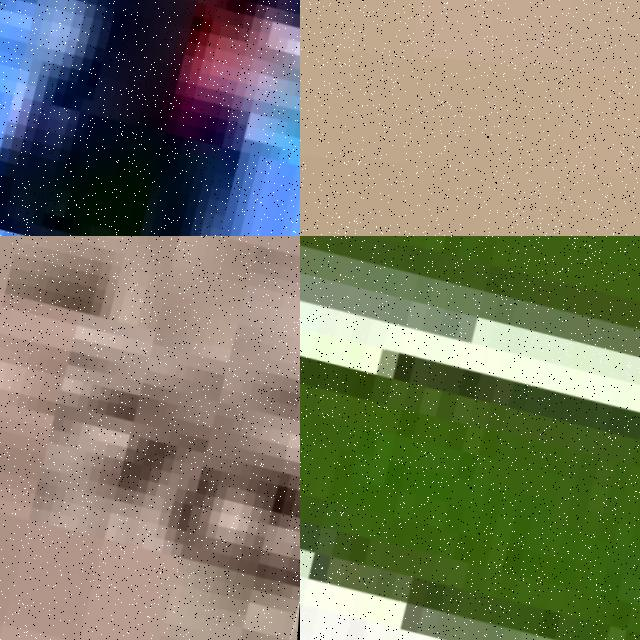drone: (300, 236, 640, 640), (0, 236, 300, 640), (0, 0, 300, 236)
